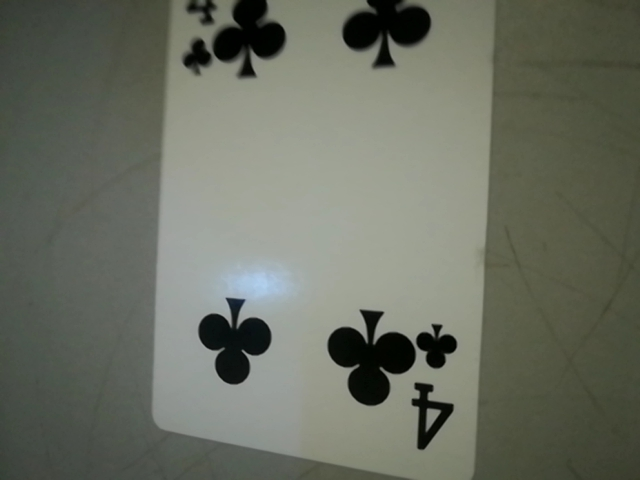mh 4: (408, 313, 461, 454)
